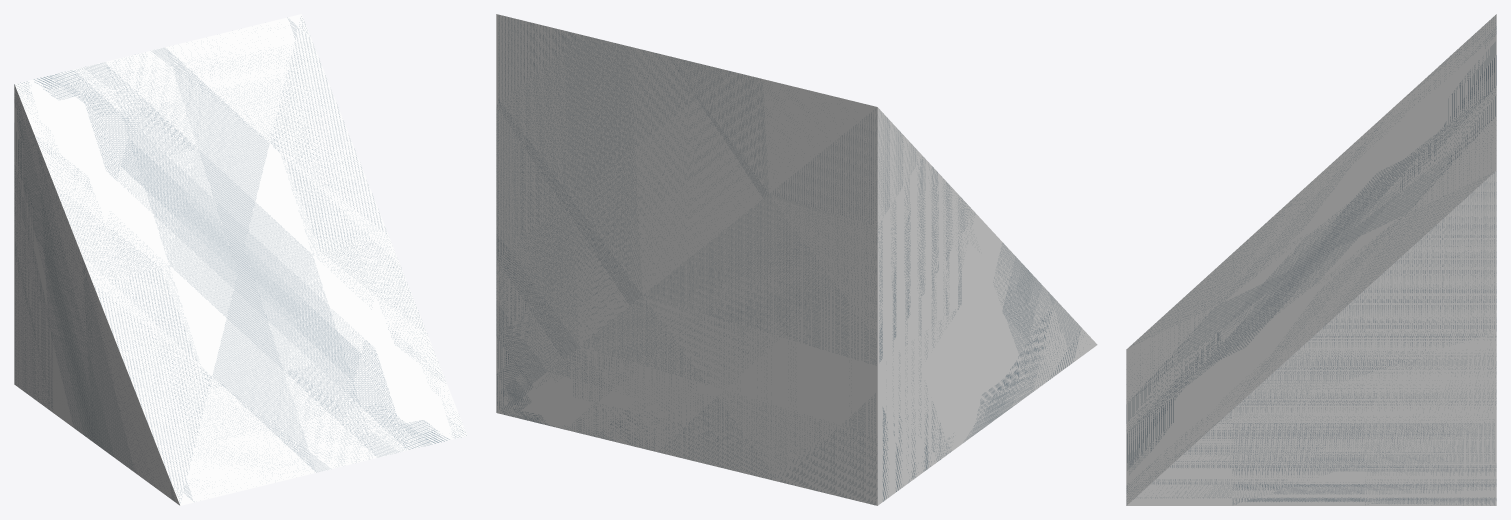
The model's file is Slope.fbx.
3 views of the same model, side by side, from view 1: azimuth 30°, elevation 25°; view 2: azimuth 150°, elevation 25°; view 3: azimuth 270°, elevation 25° (orthographic). The views are drawn at different scales.
Parts seen in each view (by area): view 1: Model; view 2: Model; view 3: Model.
Part boxes in pixels (x1=…): Model: x1=14, y1=14, x2=467, y2=505; Model: x1=496, y1=14, x2=1097, y2=505; Model: x1=1126, y1=14, x2=1496, y2=505.
Bounding box in the file's own units: 2 × 2 × 2.
